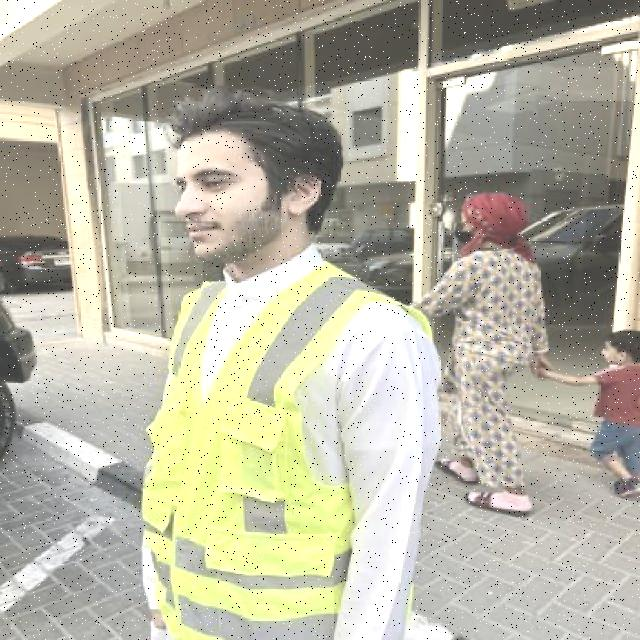Mask: (152, 283, 400, 640)
